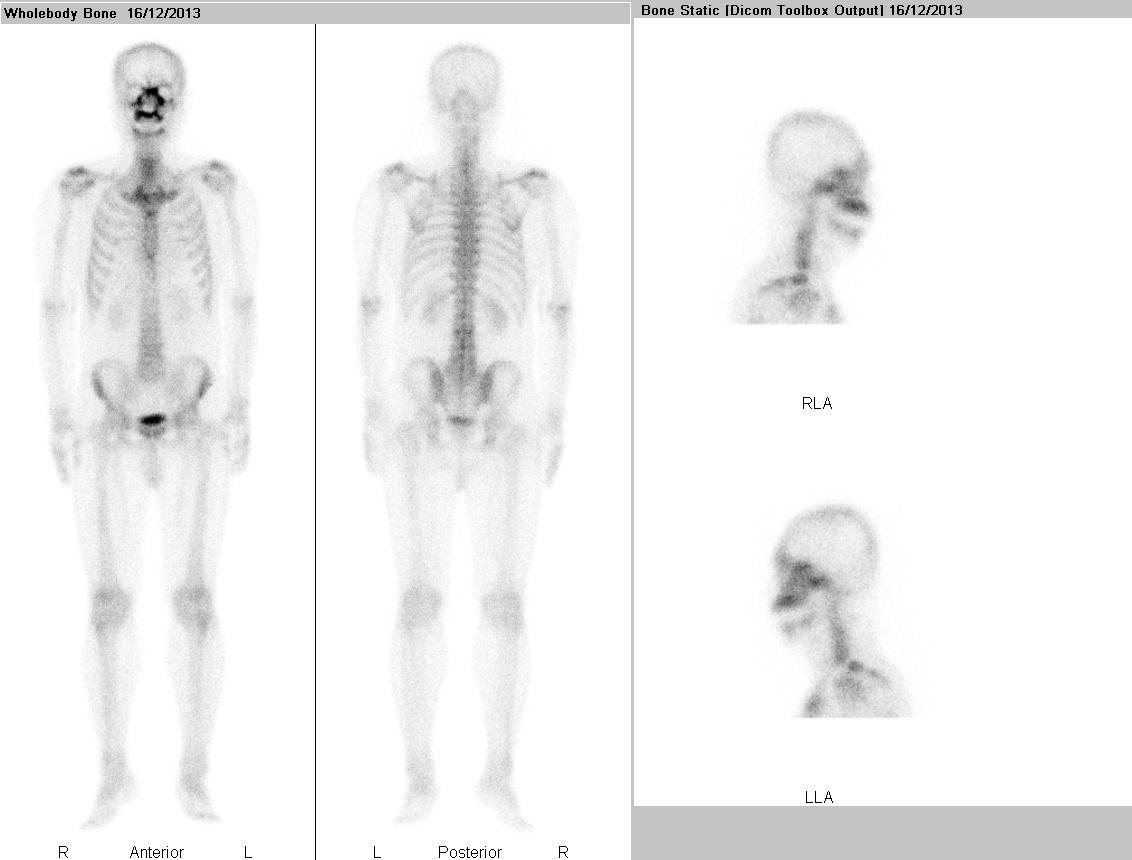person: (1, 23, 630, 860)
